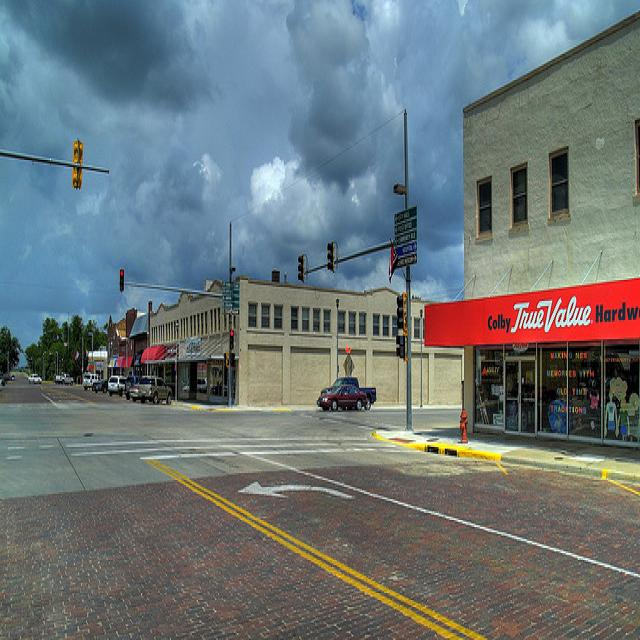Vehicle: (321, 377, 376, 410), (316, 384, 369, 412), (131, 375, 172, 406), (108, 376, 127, 398), (125, 376, 142, 400), (83, 374, 100, 391), (92, 379, 109, 394), (56, 373, 74, 386), (28, 374, 42, 384)
